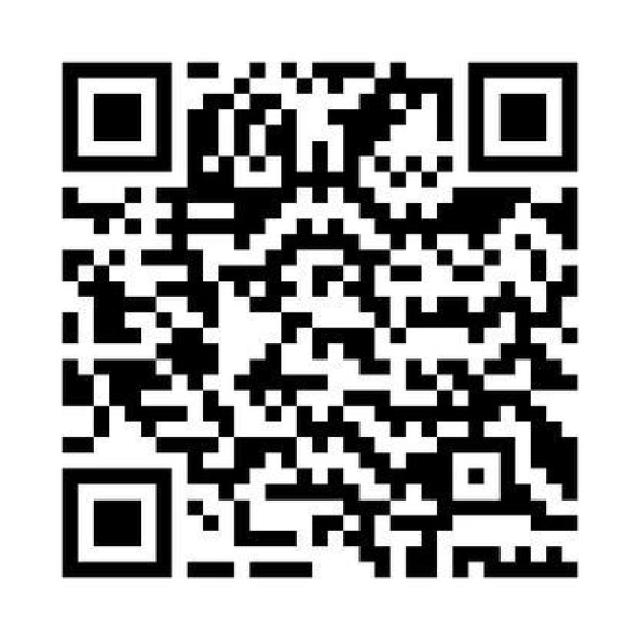QRCode: (50, 49, 595, 595)
